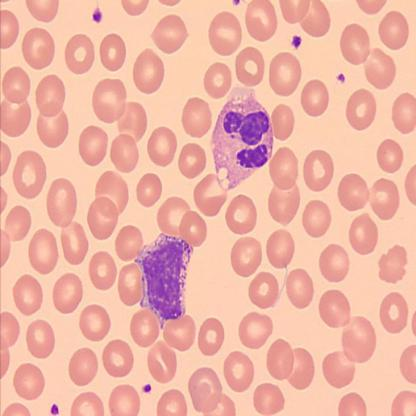Myelocyte: (213, 95, 275, 188), (136, 235, 191, 324)
